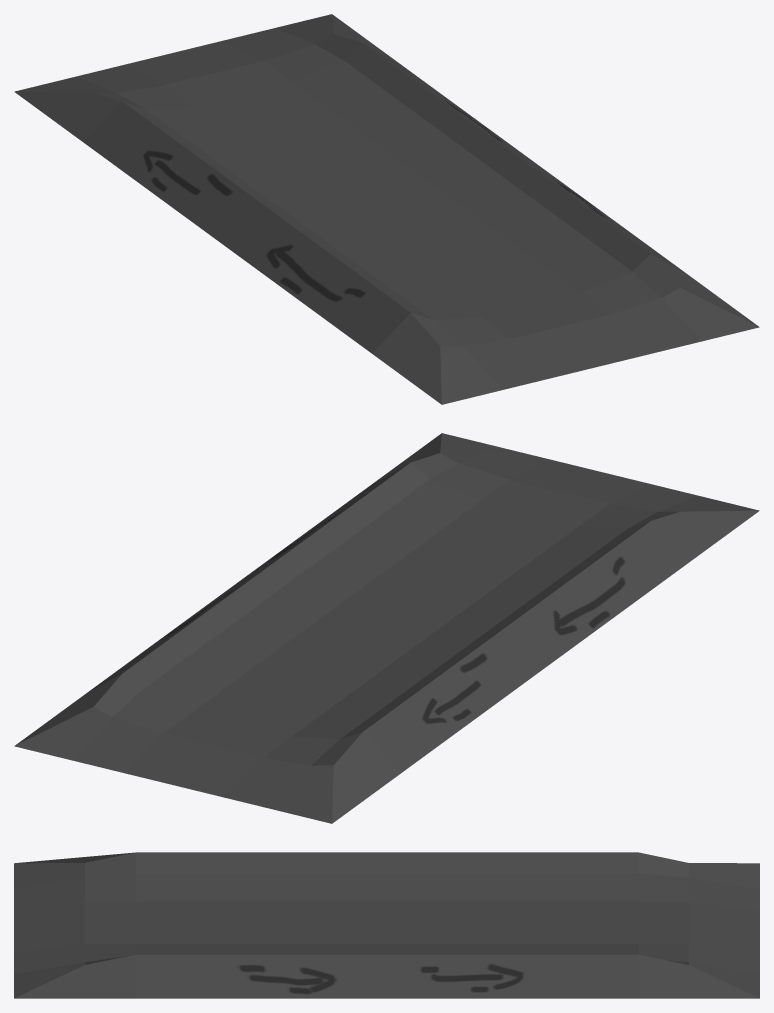
File: slidely slope.fbx
3 renders of one model, top to bottom at view 1: azimuth 30°, elevation 25°; view 2: azimuth 150°, elevation 25°; view 3: azimuth 270°, elevation 25°, orthographic. The views are drawn at different scales.
Visible parts, largest first — view 1: Cube; view 2: Cube; view 3: Cube.
Boxes of the visible parts, bbox=[...] form: Cube: bbox=[14, 14, 759, 404]; Cube: bbox=[14, 433, 759, 823]; Cube: bbox=[14, 852, 759, 998].
Size of the model in its own units: 530 by 50 by 1235.
Materials: 1 (1 with a texture image).
